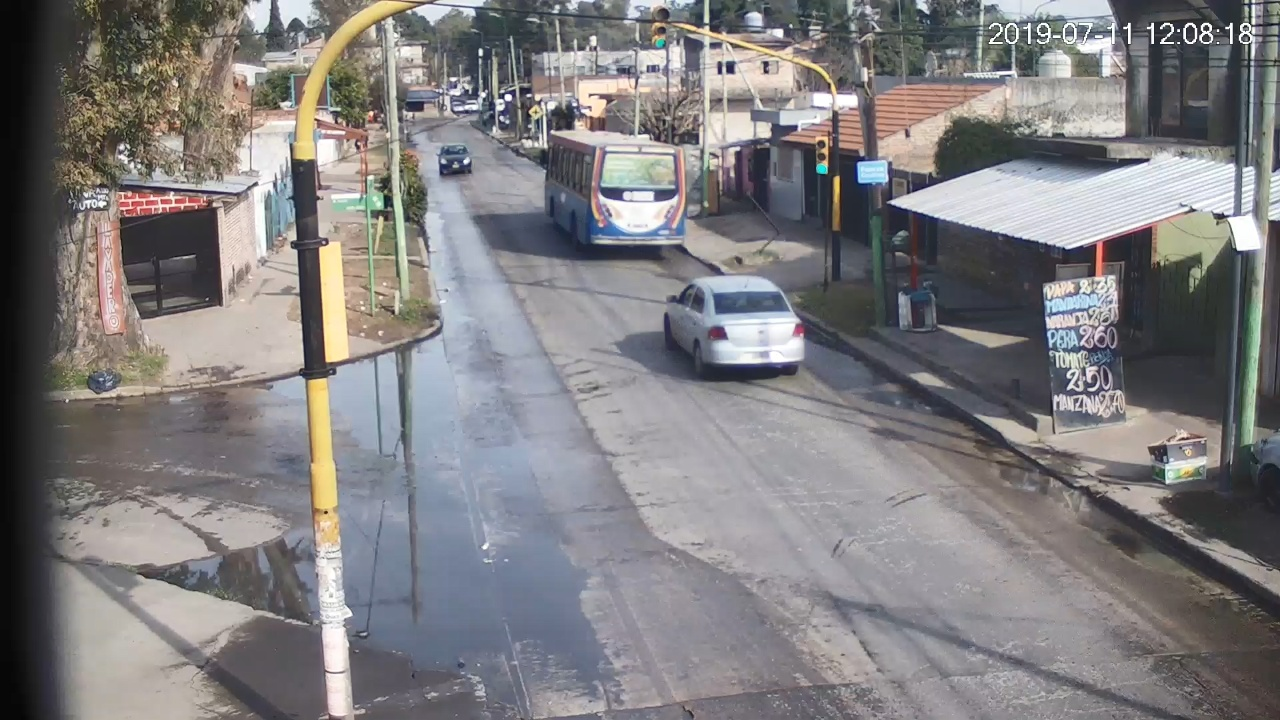bus: (540, 131, 686, 252)
car: (664, 275, 806, 377)
traffic light: (652, 6, 668, 49), (816, 137, 828, 175)
